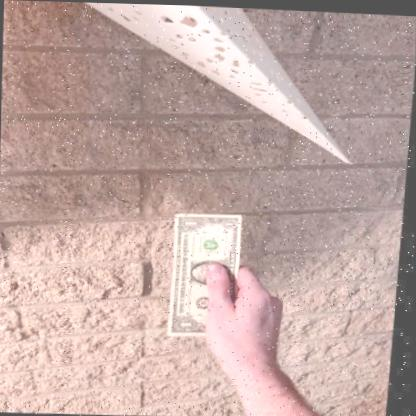one-front: (168, 211, 246, 339)
